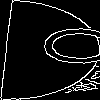O: (25, 25, 100, 67)
